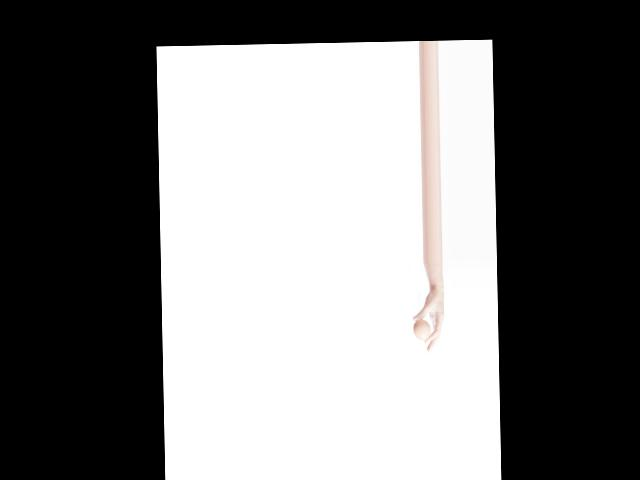egg: (413, 318, 430, 340)
